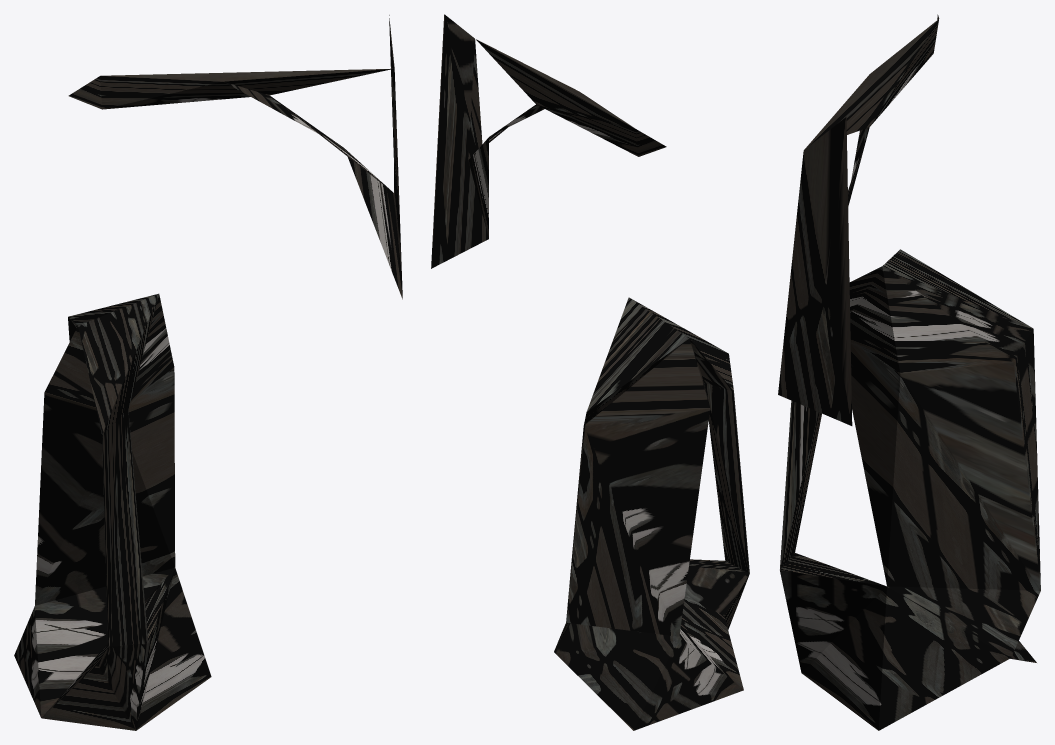
Rendered from hanging_lantern_lod2.glb.
The picture shows the model from 3 angles, left to right: view 1: azimuth 30°, elevation 25°; view 2: azimuth 150°, elevation 25°; view 3: azimuth 270°, elevation 25°; orthographic projection. The views are drawn at different scales.
Visible parts, largest first — view 1: geometry_0; view 2: geometry_0; view 3: geometry_0.
Boxes of the visible parts, left/top/right/bottom form: geometry_0: left=14, top=15, right=402, bottom=730; geometry_0: left=431, top=14, right=749, bottom=730; geometry_0: left=778, top=14, right=1040, bottom=730.
Bounding box in the file's own units: 0.3831 × 0.6726 × 0.2276.
1 material, 1 textured.
